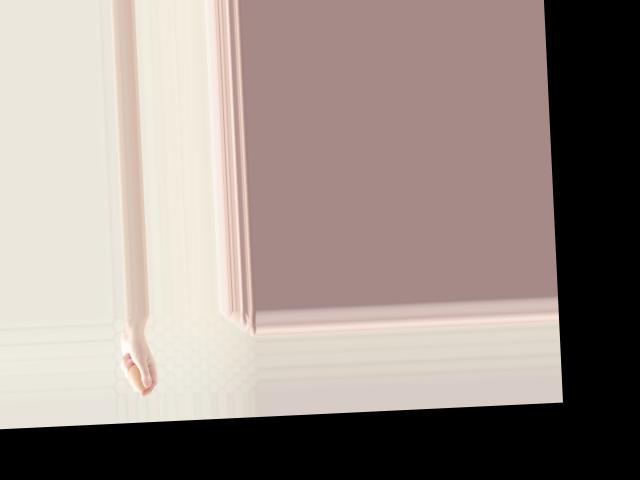egg: (126, 363, 149, 392)
